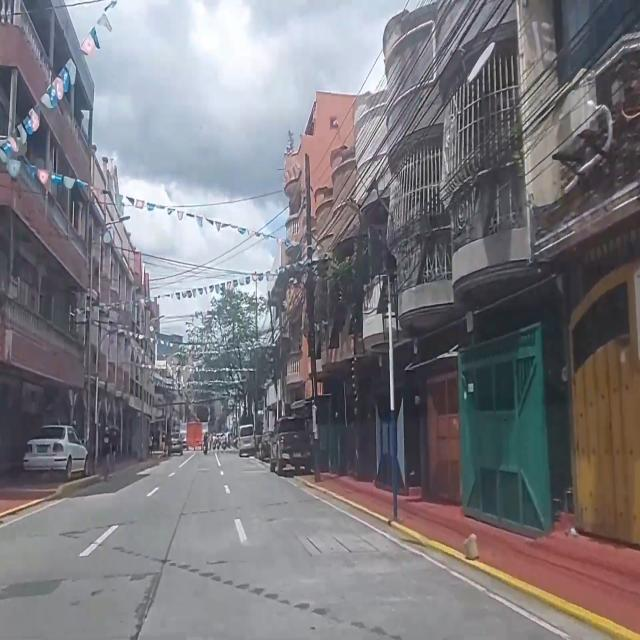car: (22, 426, 88, 478), (270, 417, 312, 475), (238, 424, 255, 456), (167, 431, 183, 456)
motorcycle: (203, 432, 208, 454), (222, 433, 227, 451), (212, 432, 217, 450), (216, 434, 220, 451)
